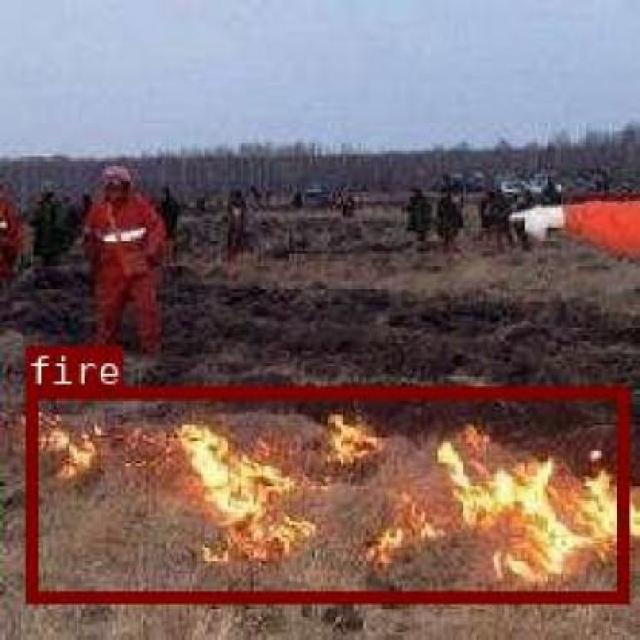Fire: (24, 386, 626, 600)
